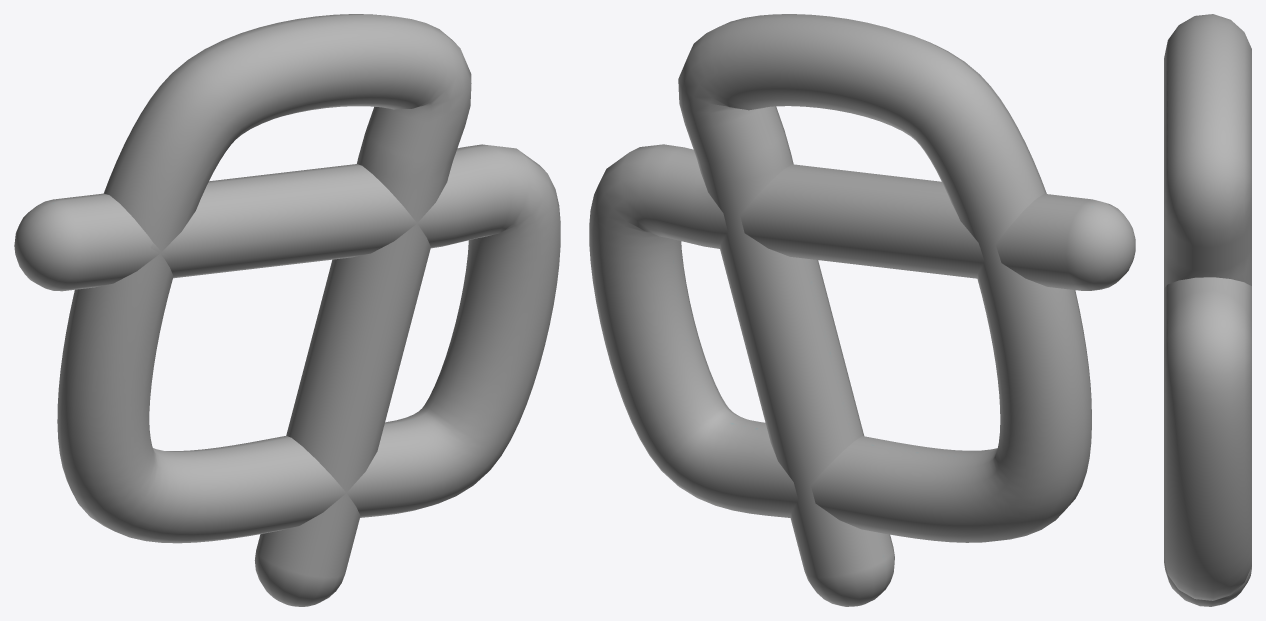
The model's file is menu.glb.
3 views of the same model, side by side, from view 1: azimuth 30°, elevation 25°; view 2: azimuth 150°, elevation 25°; view 3: azimuth 270°, elevation 25° (orthographic). The views are drawn at different scales.
Parts seen in each view (by area): view 1: node_id9; view 2: node_id9; view 3: node_id9.
Part boxes in pixels (<box>): node_id9: <box>14,14,560,606</box>; node_id9: <box>589,14,1135,606</box>; node_id9: <box>1164,14,1251,606</box>.
Bounding box in the file's own units: 0.3771 × 0.3908 × 0.0561.
Materials: 2 (2 with a texture image).
